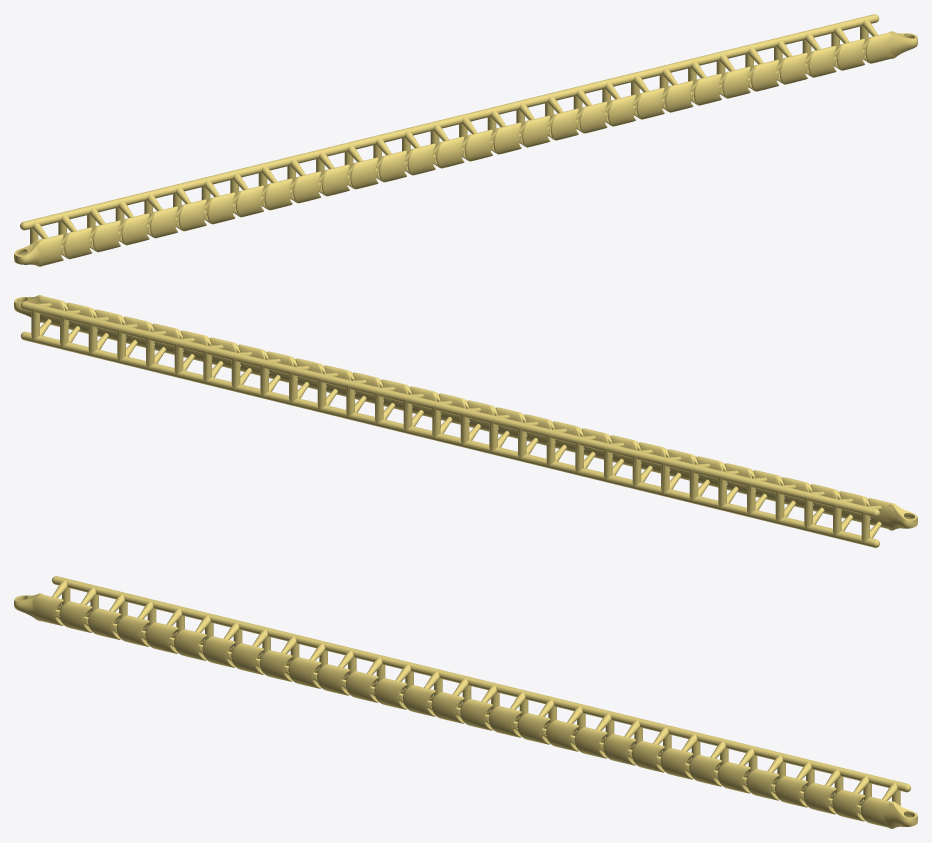
File: yzn5-81.glb
3 views of the same model, one above another, from view 1: azimuth 30°, elevation 25°; view 2: azimuth 150°, elevation 25°; view 3: azimuth 330°, elevation 25° (orthographic).
Parts seen in each view (by area): view 1: Renderer Node; view 2: Renderer Node; view 3: Renderer Node.
Part boxes in pixels (x1,y1,x2,y2): Renderer Node: (14, 14, 917, 266); Renderer Node: (14, 295, 917, 547); Renderer Node: (14, 576, 917, 828).
Size of the model in its own units: 180 by 7.31 by 7.98.
